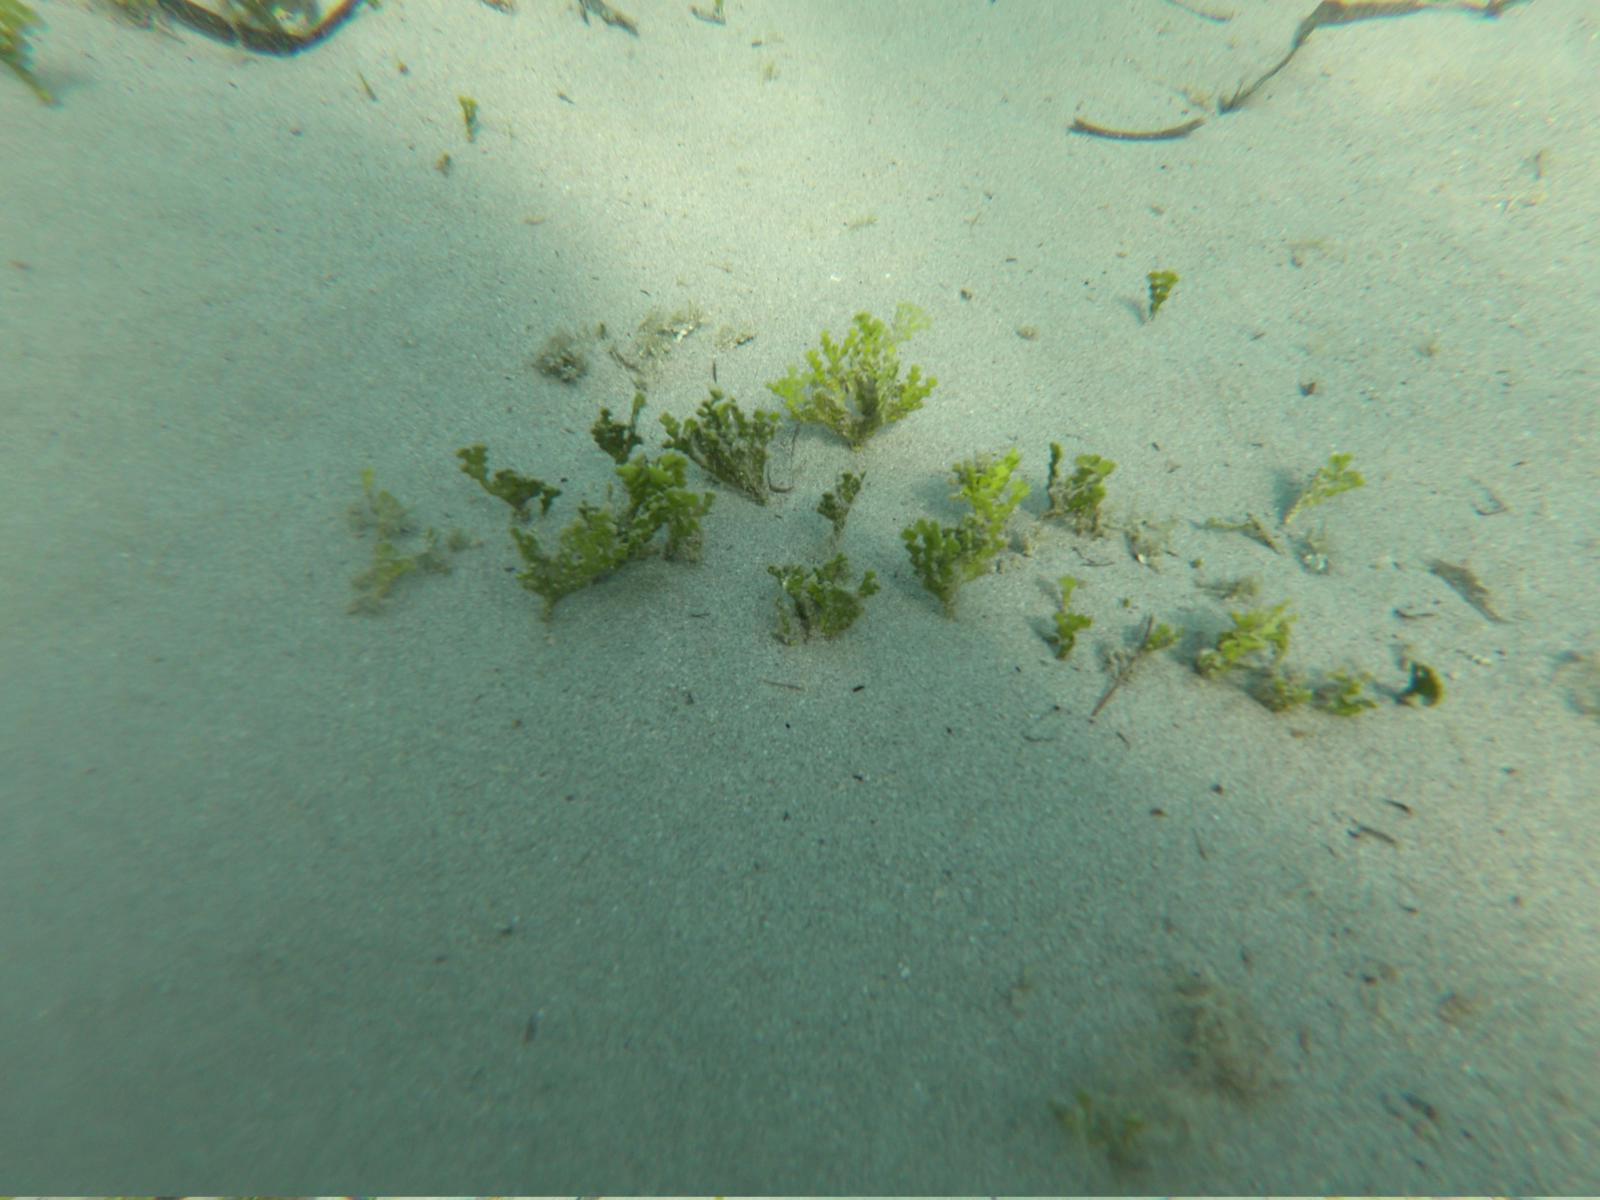halimeda: (777, 308, 941, 447), (659, 381, 780, 505), (889, 507, 1007, 621), (519, 505, 620, 620), (771, 548, 881, 642), (611, 455, 708, 558), (1038, 430, 1119, 537), (1194, 603, 1299, 682), (942, 447, 1028, 534), (454, 441, 546, 516), (1288, 445, 1359, 534), (1047, 567, 1094, 666), (813, 464, 868, 529), (588, 387, 643, 453), (1391, 652, 1449, 707), (355, 542, 414, 596), (1141, 263, 1178, 315), (1315, 682, 1371, 715), (1141, 614, 1178, 654)
